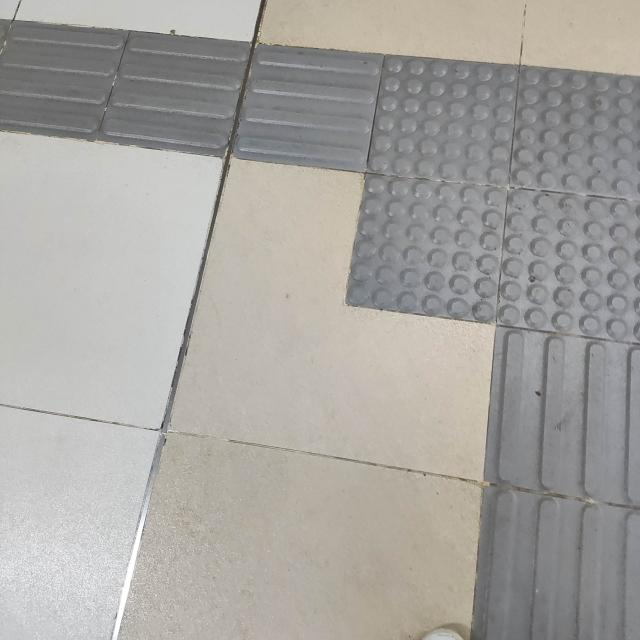kiri: (173, 14, 640, 456)
